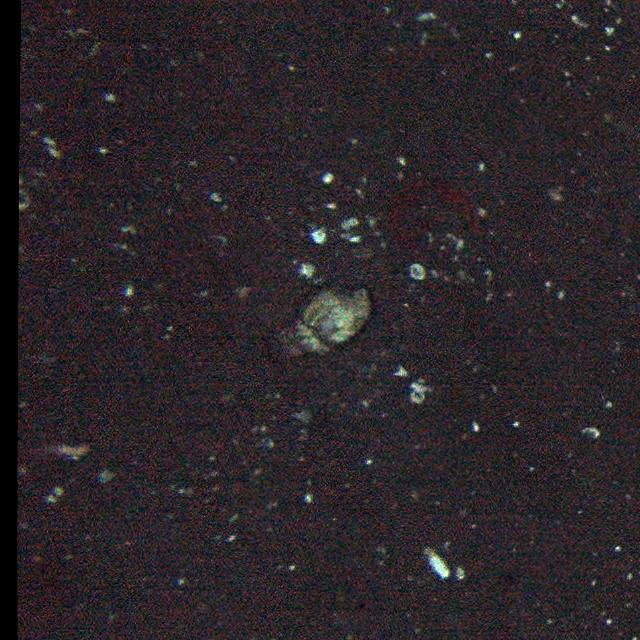whelk: (271, 285, 371, 358)
